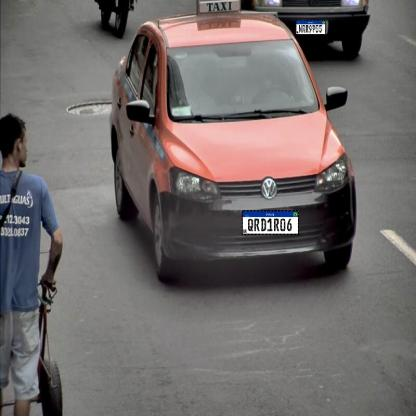PlacaM: (242, 210, 299, 235), (296, 20, 325, 35)
